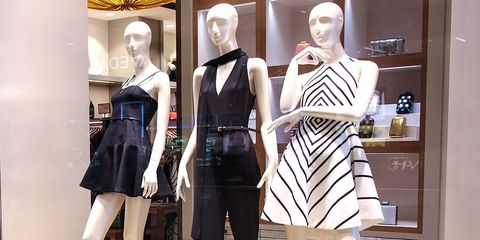person-like: (259, 1, 388, 240), (174, 1, 281, 239), (77, 18, 174, 239)
